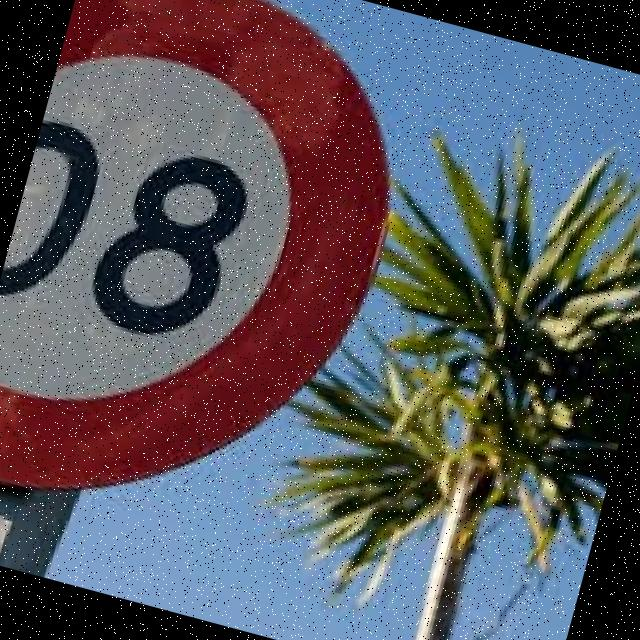speed_limit_80: (0, 0, 451, 569)
